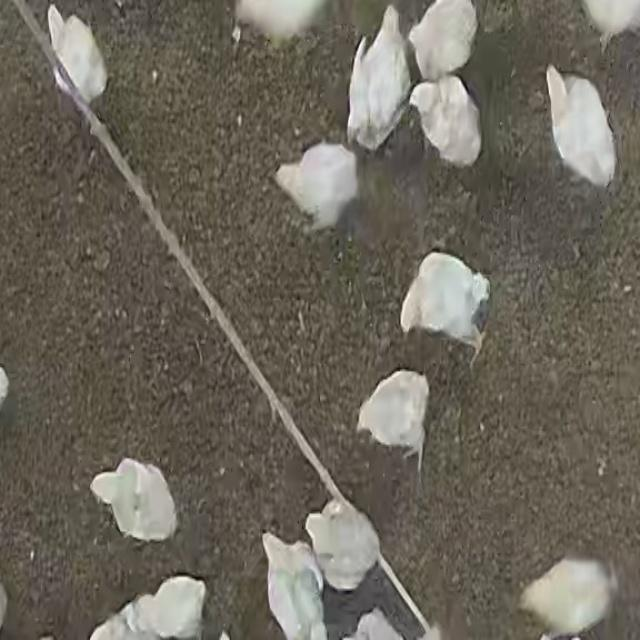chicken: (398, 250, 488, 354), (346, 7, 410, 152), (546, 62, 615, 189), (355, 369, 429, 477), (274, 142, 360, 234), (89, 576, 211, 640), (519, 556, 614, 636), (90, 458, 178, 544), (304, 497, 380, 592), (261, 533, 329, 639), (410, 76, 483, 172), (47, 7, 107, 113), (408, 0, 478, 82)
